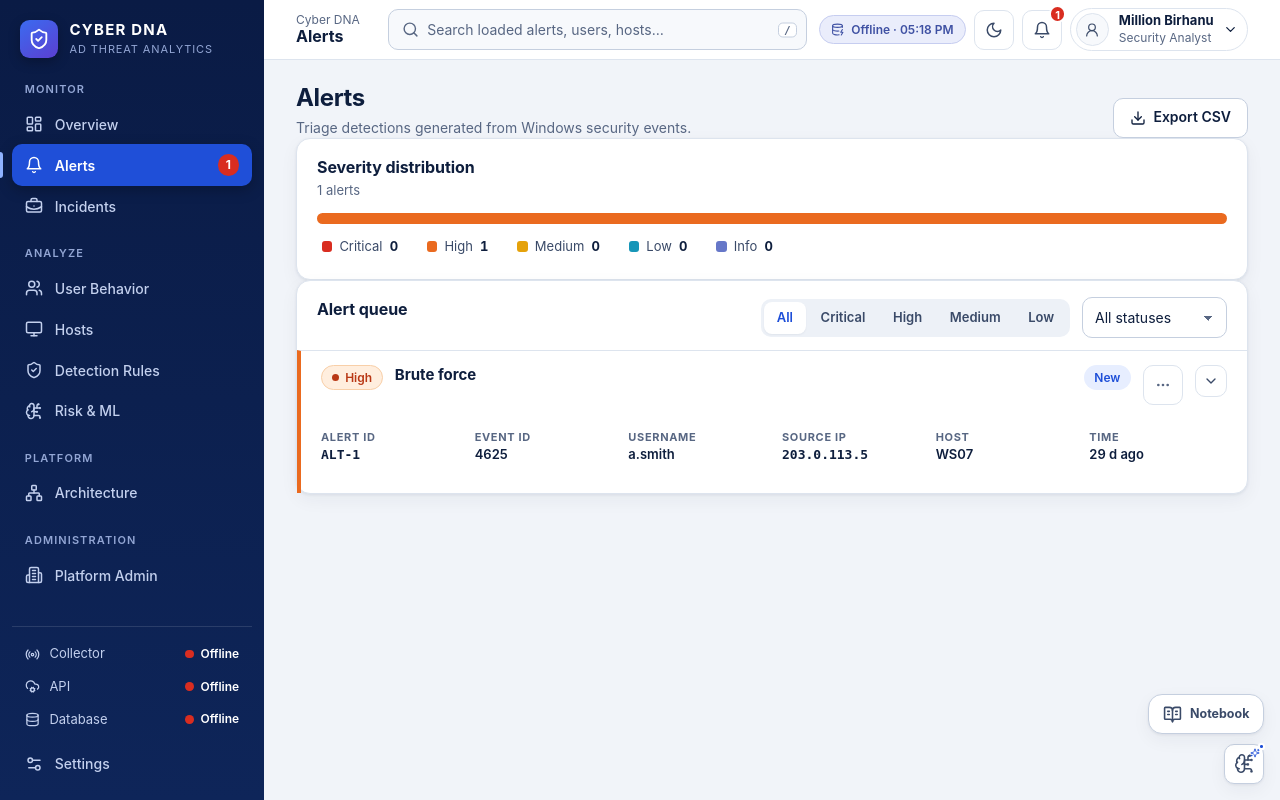
Test: command palette › typing a question offers Ask AI first and Enter sends it with page context
This screenshot has width=1280, height=800.
Press k
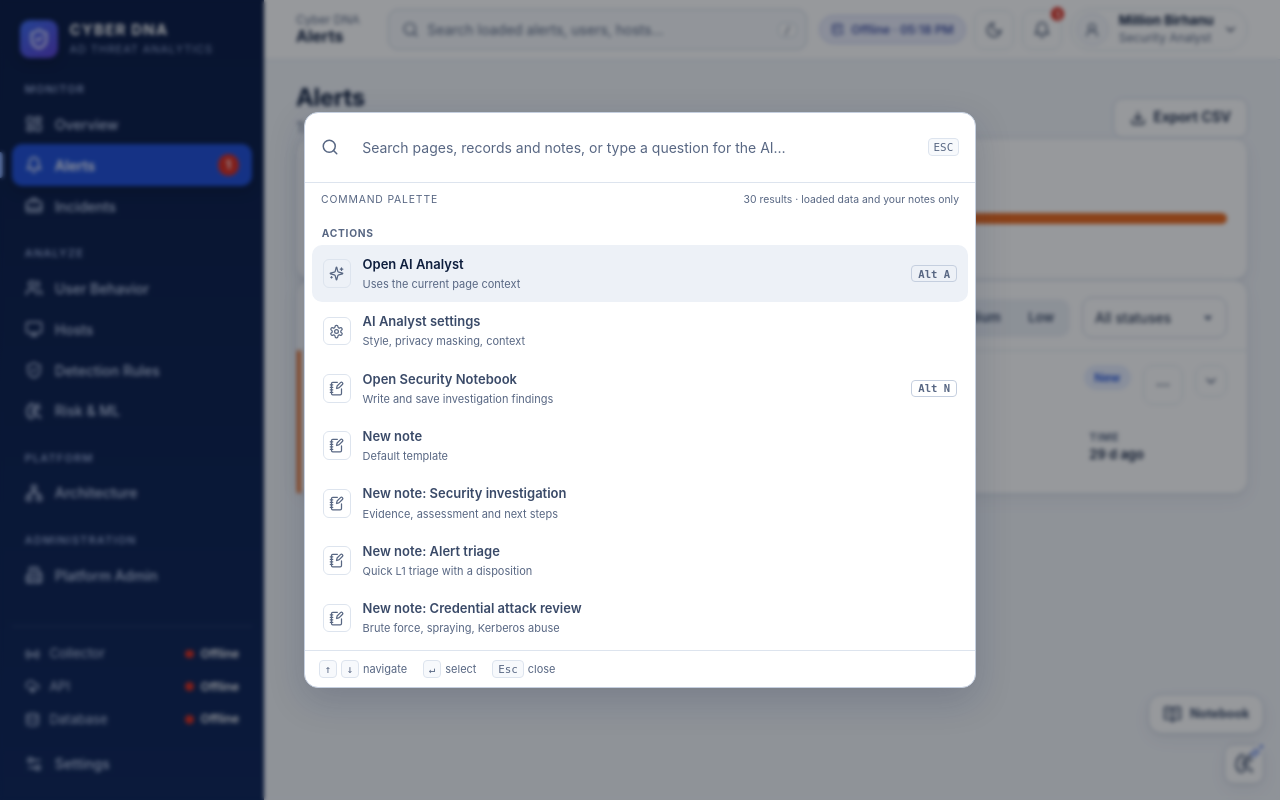
Type "why is a.smith risky" into the field named "Search commands" at (633, 147), box [350,127,917,167]
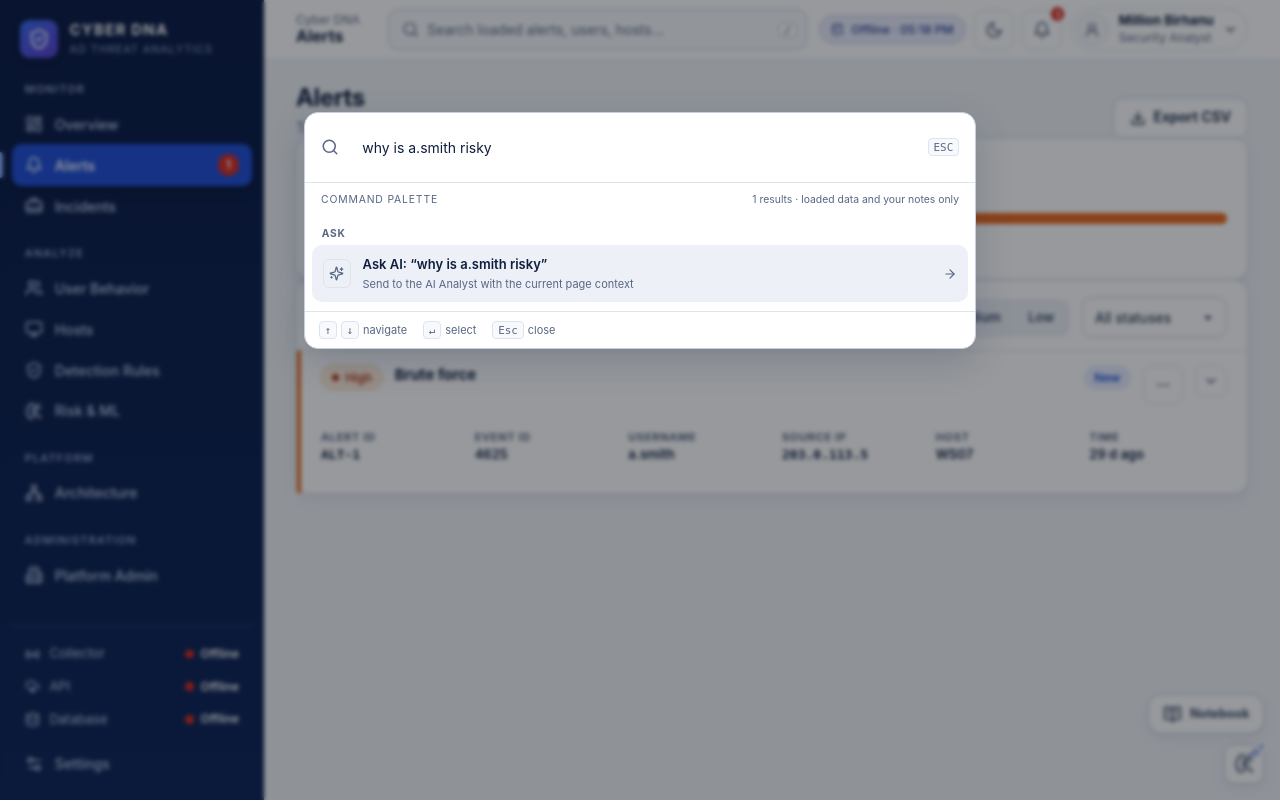
expect the option shows "Ask AI: “why is a.smith risky”": met, box [312,245,968,302]
Press Enter
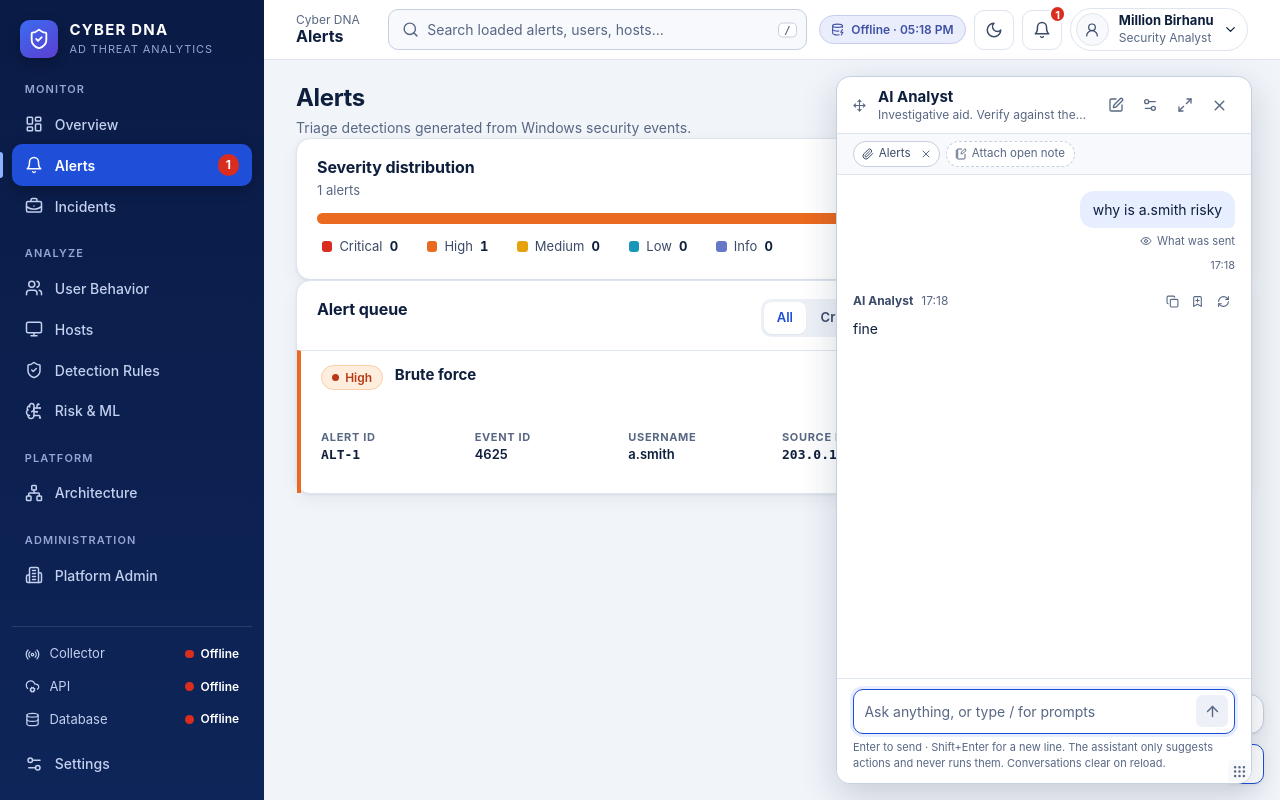
expect the text "fine" is shown: met, box [853,320,878,337]
